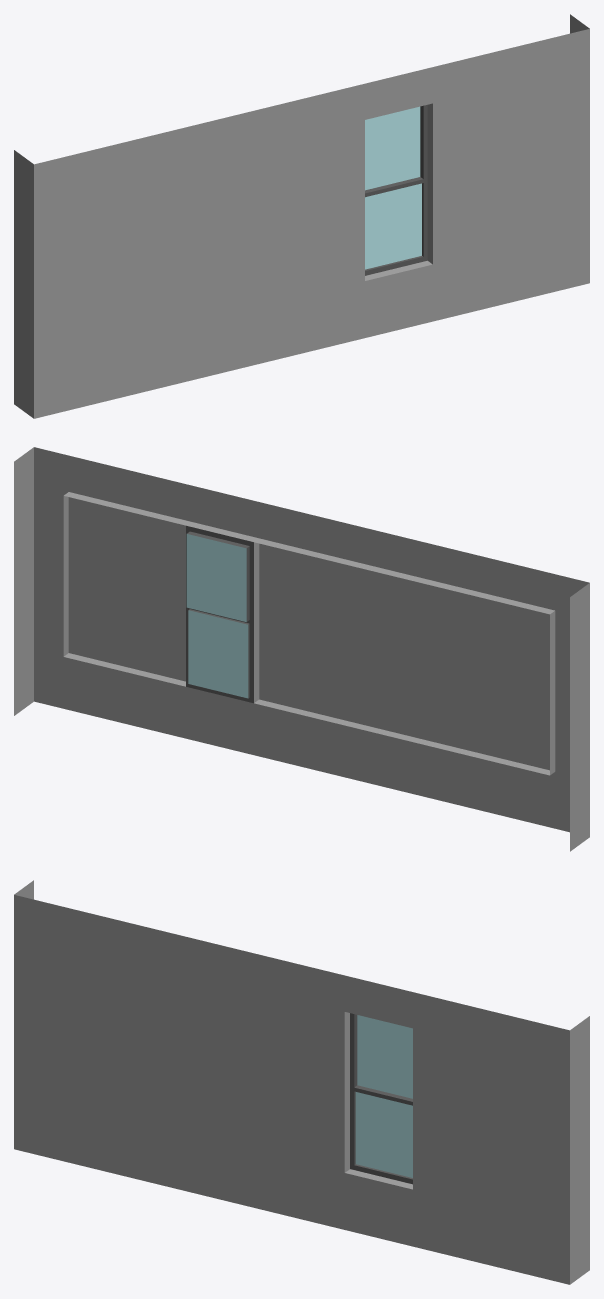
Rendered from SmallWindow.fbx.
The picture shows the model from 3 angles, top to bottom: view 1: azimuth 30°, elevation 25°; view 2: azimuth 150°, elevation 25°; view 3: azimuth 330°, elevation 25°; orthographic projection.
Visible parts, largest first — view 1: SmallWindow; view 2: SmallWindow; view 3: SmallWindow.
Part boxes in pixels (bbox=[...]): SmallWindow: bbox=[14, 14, 589, 418]; SmallWindow: bbox=[14, 447, 589, 851]; SmallWindow: bbox=[14, 880, 589, 1284].
Bounding box in the file's own units: 800 × 350 × 50.
